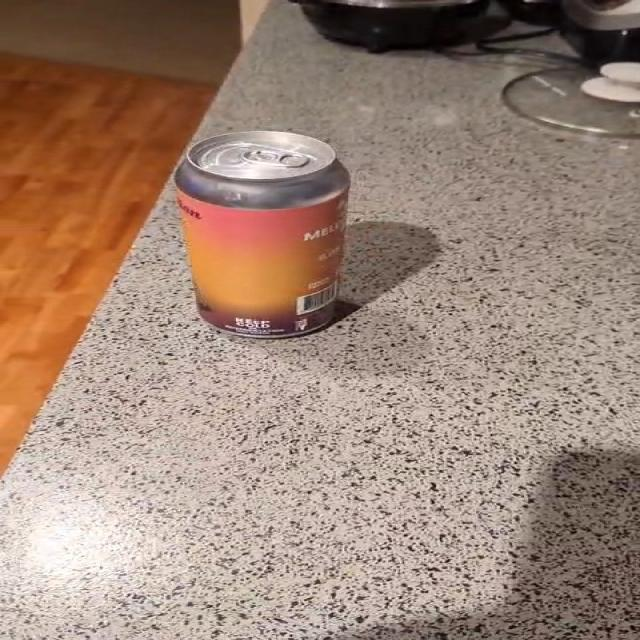metal: (176, 131, 349, 338)
